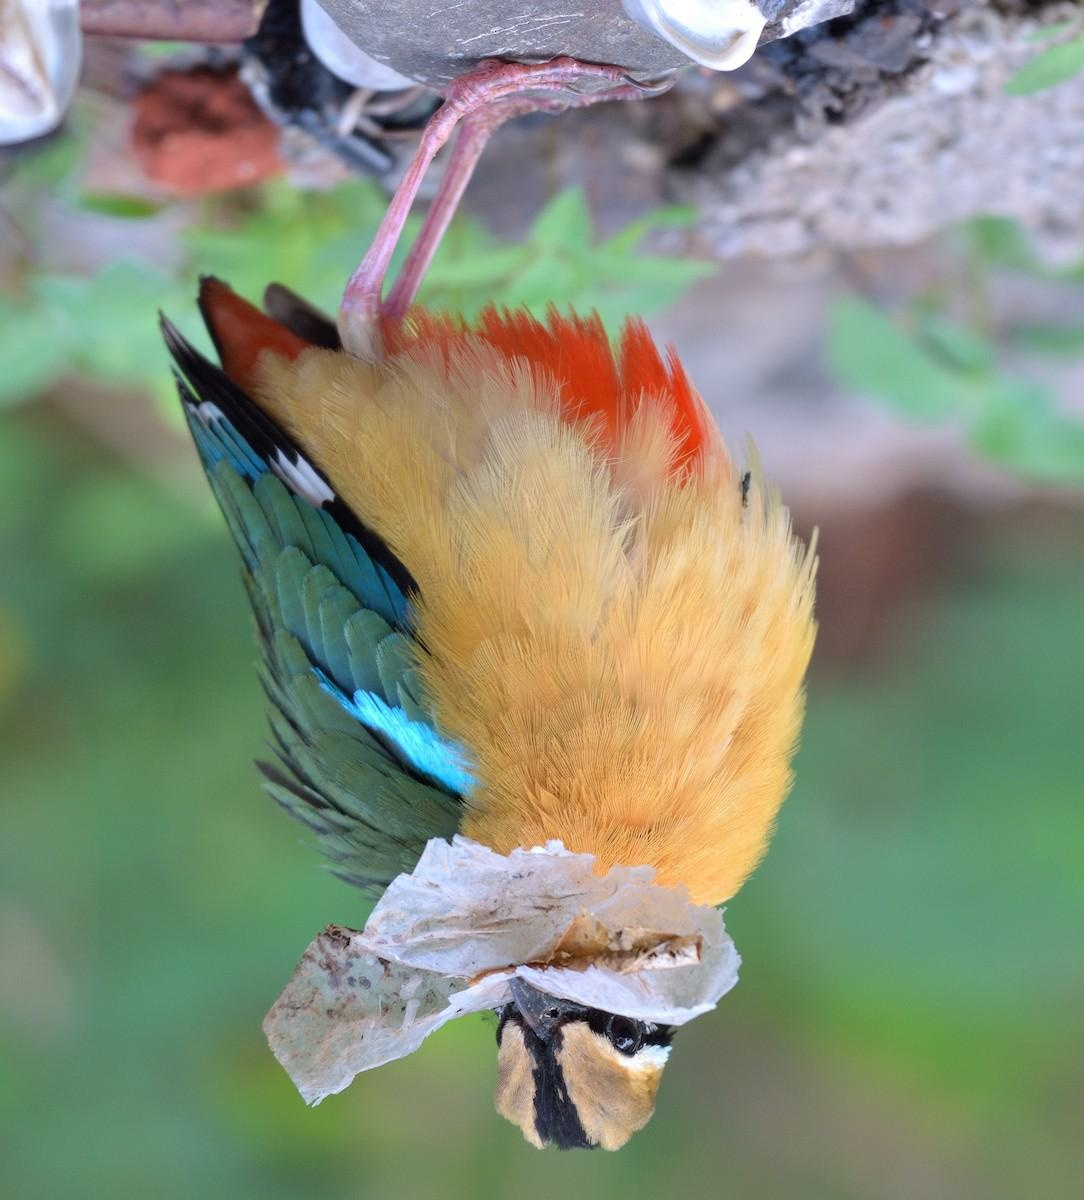pitta: (39, 56, 790, 1160)
